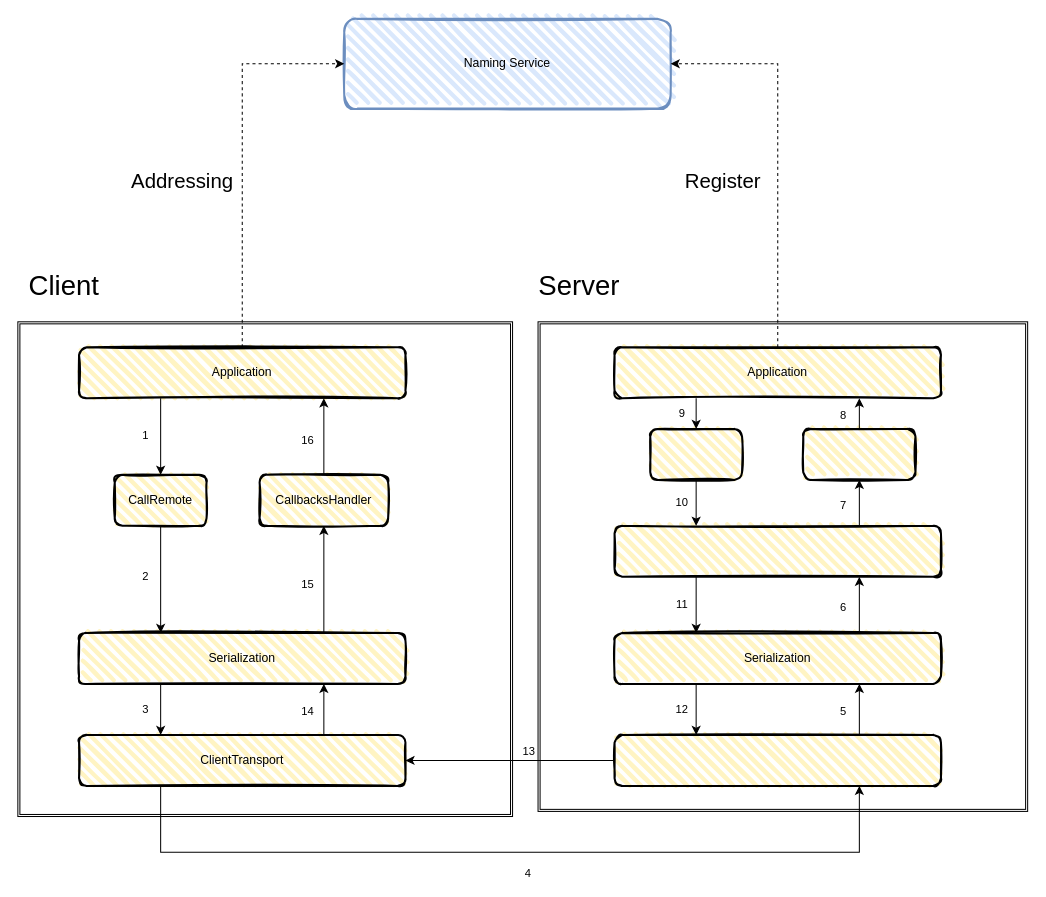
Image size: 1046x897. Some labels were removed from this diagram. Here are the shapes that lost their labels. From the top down, the box of each, then its label:
(649, 427, 743, 480): ResultSender
(802, 427, 916, 480): RequestHandler
(613, 524, 941, 577): Reactor
(613, 733, 941, 786): ServerTransport
